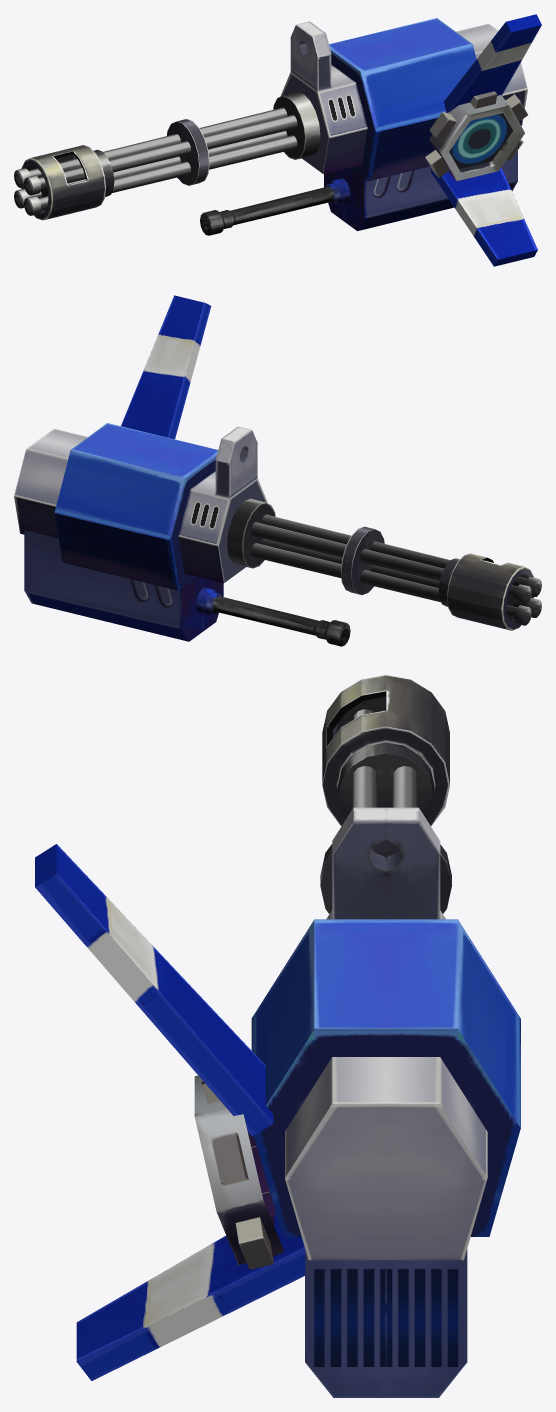
Rendered from model_machinegun.FBX.
3 renders of one model, top to bottom at view 1: azimuth 30°, elevation 25°; view 2: azimuth 150°, elevation 25°; view 3: azimuth 270°, elevation 25°, orthographic. The views are drawn at different scales.
Visible parts, largest first — view 1: model_machinegun; view 2: model_machinegun; view 3: model_machinegun.
Boxes of the visible parts, x1,y1,x2,y2 form: model_machinegun: (14,14,541,266); model_machinegun: (14,295,541,646); model_machinegun: (35,675,520,1397).
Bounding box in the file's own units: 125 × 62.6 × 54.97.
